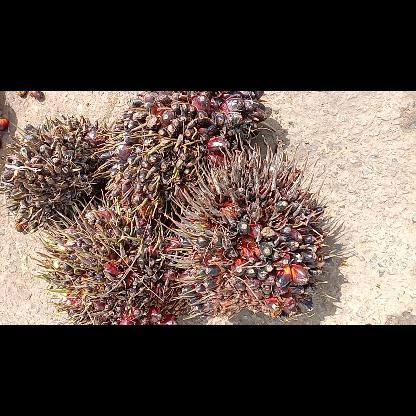TBS abnormal: (182, 145, 340, 322), (108, 92, 270, 209), (48, 196, 186, 324), (4, 117, 112, 225)
